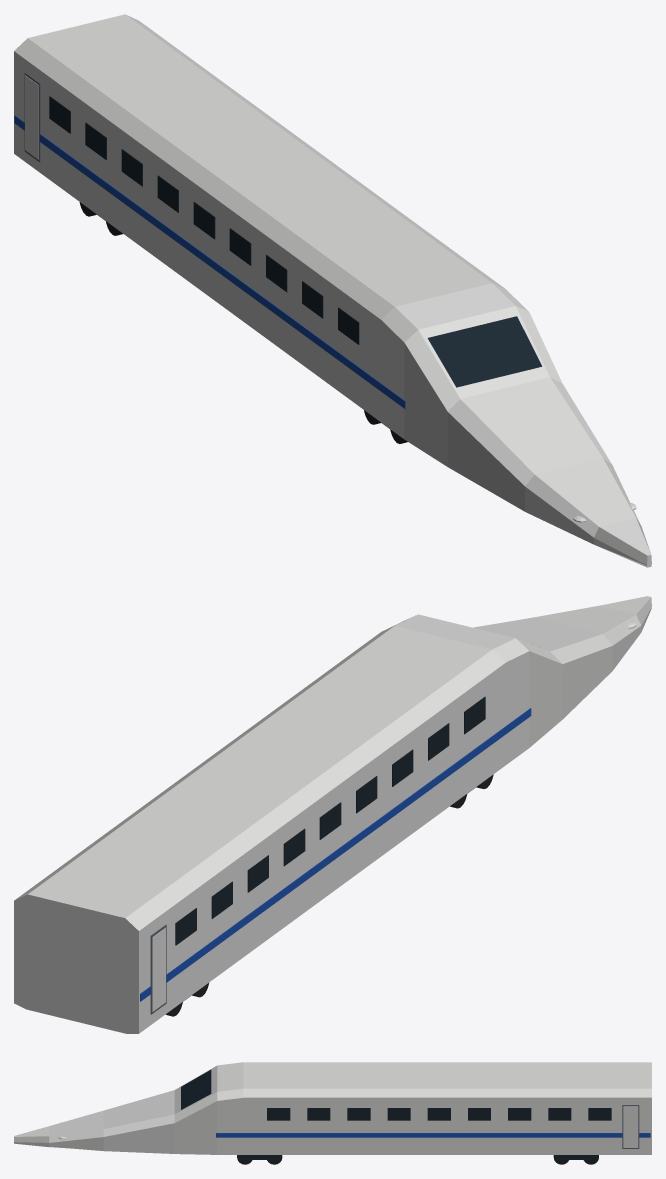
The model's file is shinkansen.glb.
3 renders of one model, top to bottom at view 1: azimuth 30°, elevation 25°; view 2: azimuth 150°, elevation 25°; view 3: azimuth 270°, elevation 25°, orthographic. The views are drawn at different scales.
Parts seen in each view (by area): view 1: shinkansen body; view 2: shinkansen body; view 3: shinkansen body.
Part boxes in pixels (x1,y1,x2,y2): shinkansen body: [14, 14, 651, 567]; shinkansen body: [14, 596, 651, 1033]; shinkansen body: [14, 1062, 651, 1164].
Size of the model in its own units: 3.47 by 3.6 by 27.
